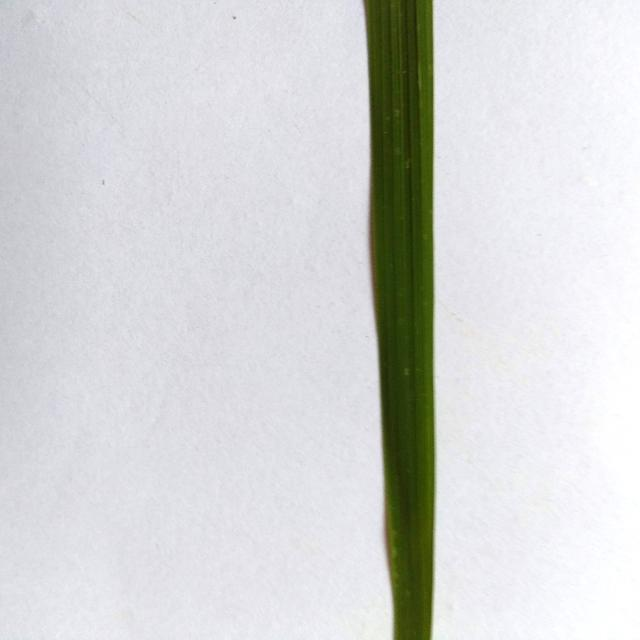Rice_Healthy: (365, 0, 435, 640)
